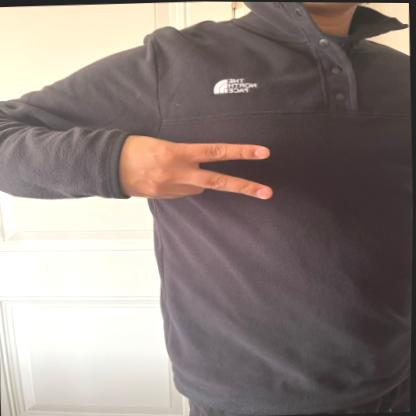H: (106, 125, 279, 211)
